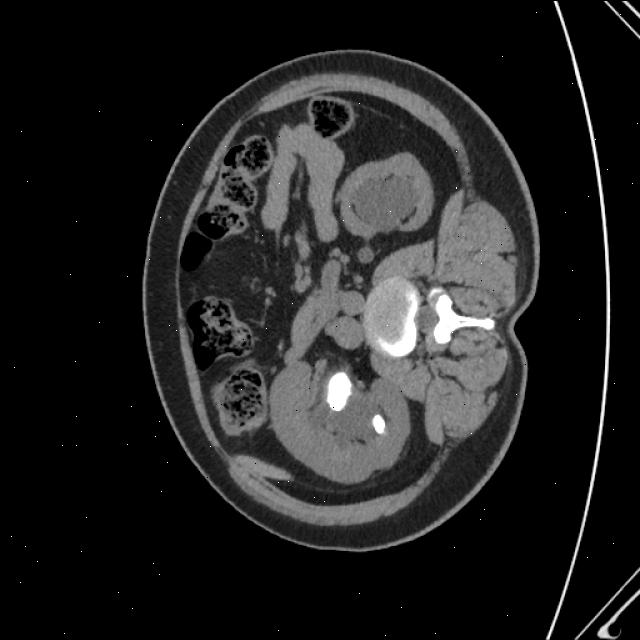kidneystone: (326, 371, 352, 410), (372, 414, 386, 434)
